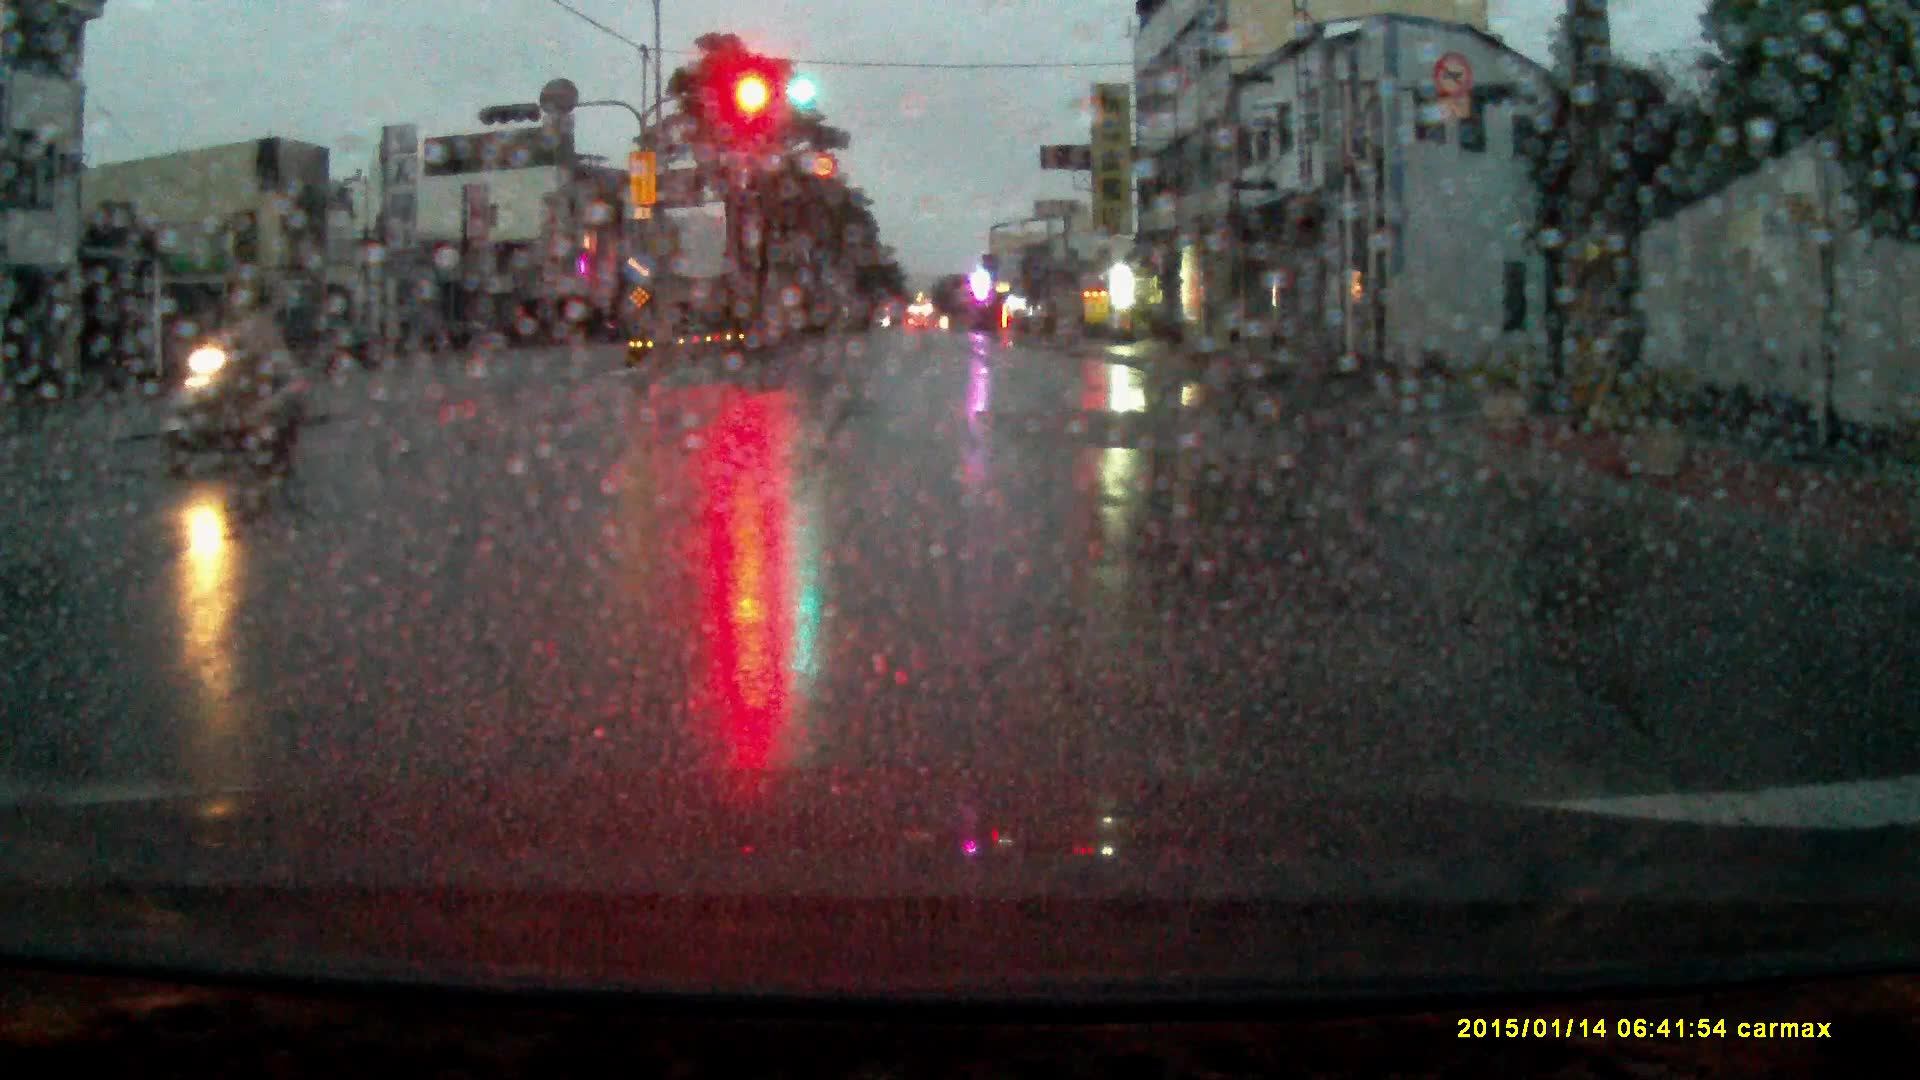rider: (152, 280, 309, 474)
